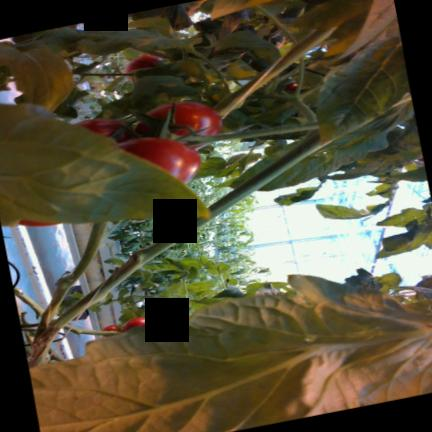MainStem: (28, 130, 323, 368), (213, 27, 336, 120), (33, 222, 107, 341)
tomato: (118, 137, 200, 183), (147, 101, 221, 149), (77, 118, 131, 142), (125, 55, 162, 73), (122, 317, 148, 331), (147, 319, 171, 328), (102, 325, 116, 331)
